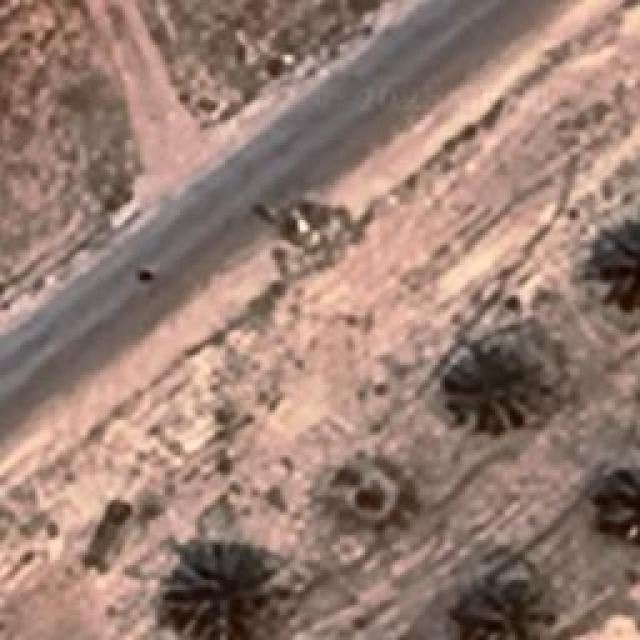PalmTree: (158, 542, 272, 638), (442, 345, 540, 430), (452, 580, 552, 635), (592, 206, 640, 316), (591, 462, 640, 547)
